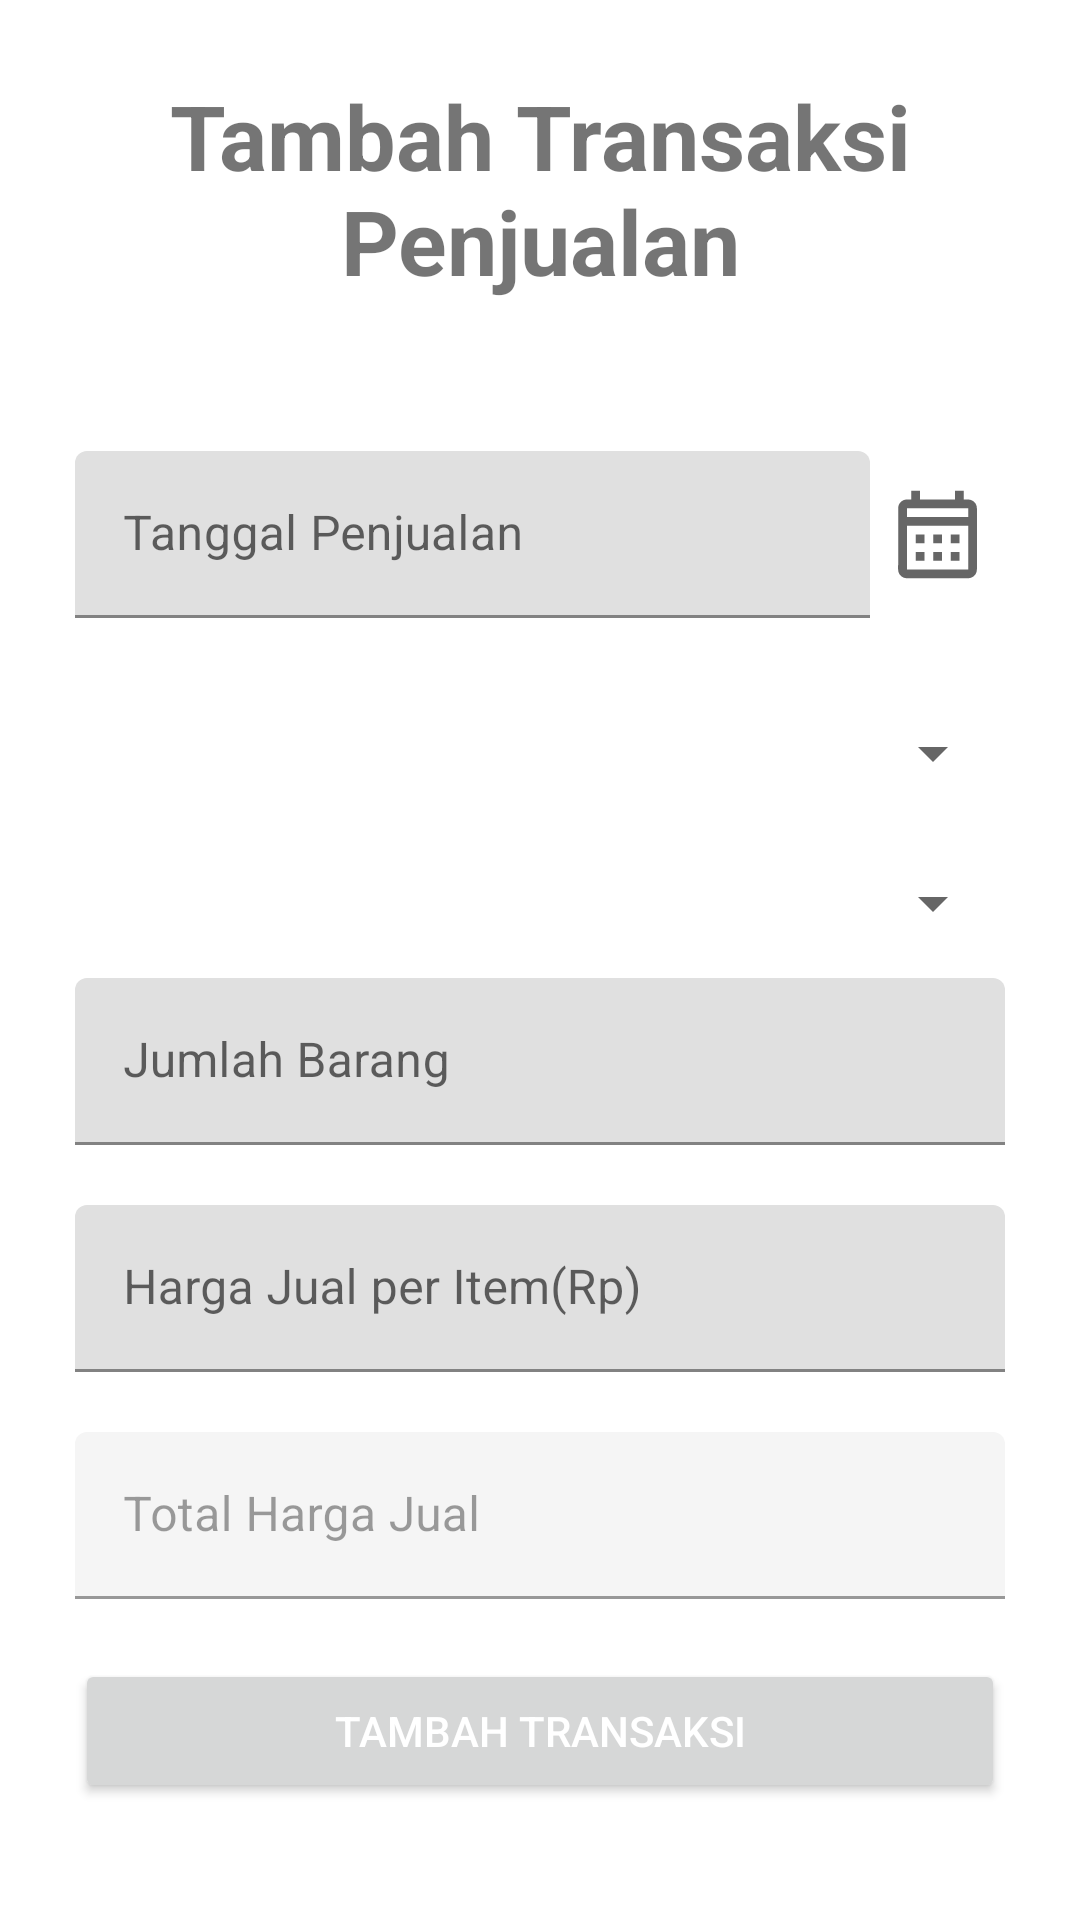

Icon bounding boxes for this 1080w x 1920h phone screenshot, format (x1, y1, x2, y2):
calendar month: (898, 490, 977, 579)
